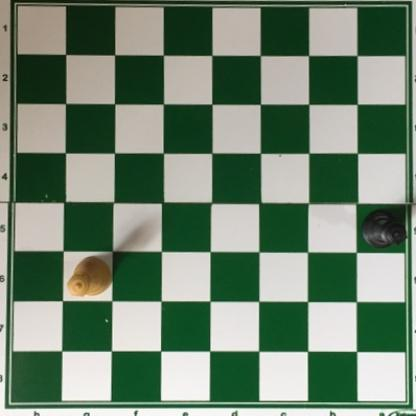black-queen: (360, 209, 410, 248)
white-queen: (67, 256, 111, 298)
